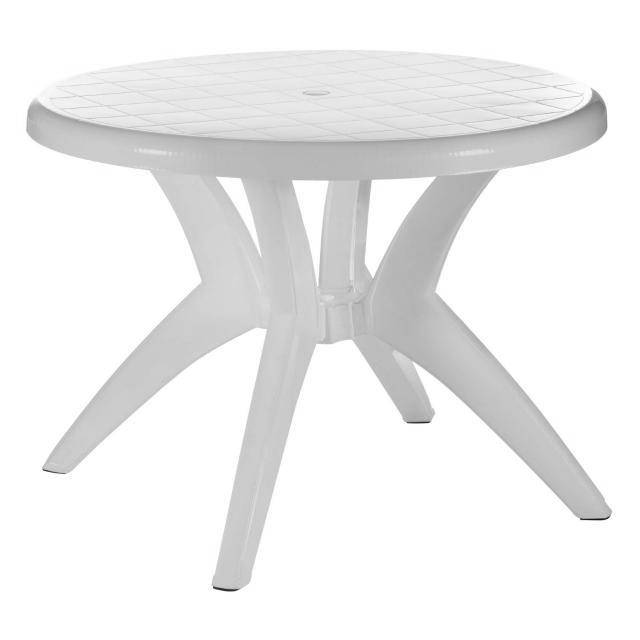table: (24, 50, 608, 595)
